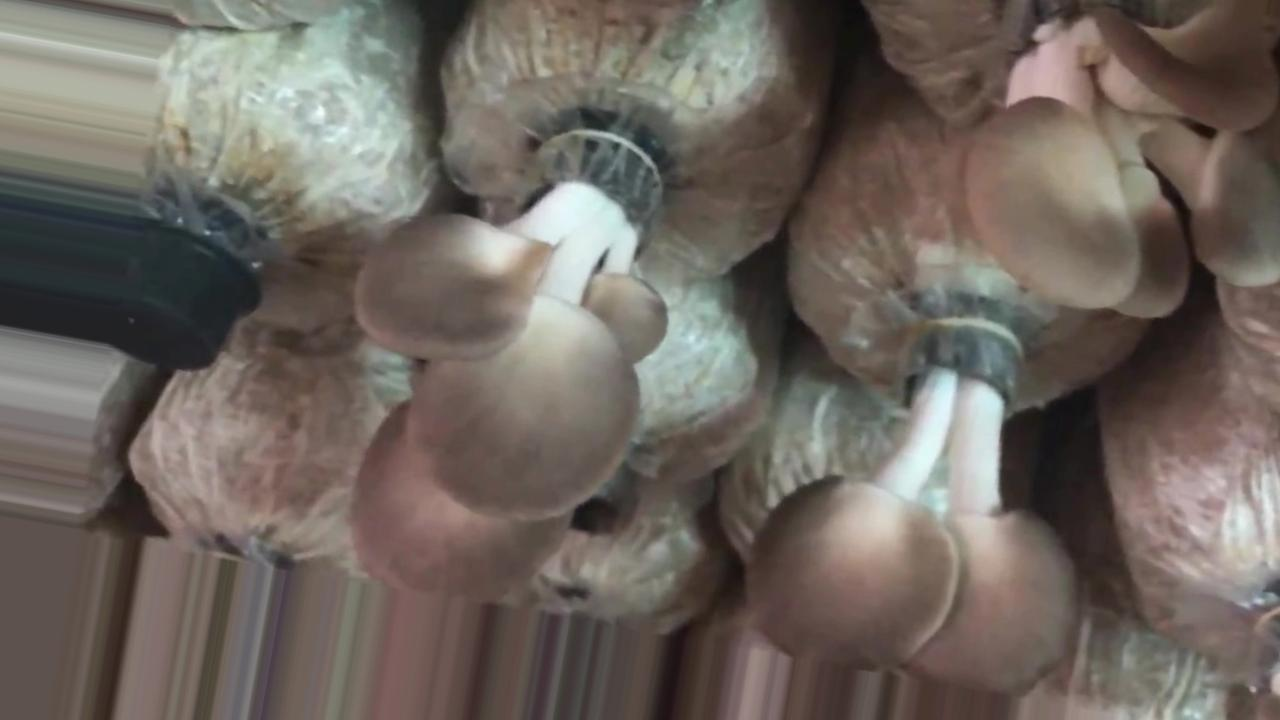nam: (353, 134, 667, 602), (752, 324, 1080, 688), (964, 1, 1278, 314)
